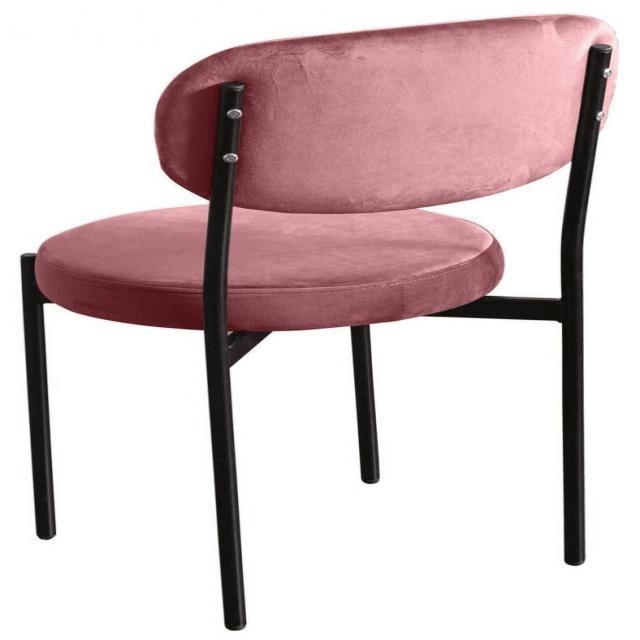chair: (7, 6, 630, 634), (33, 11, 614, 332)
